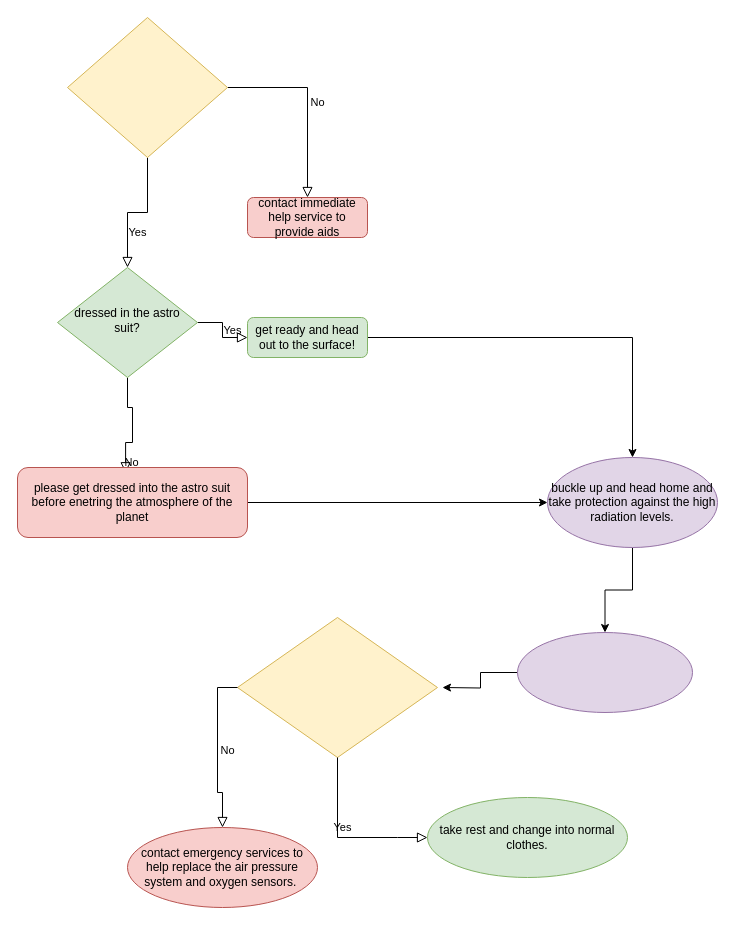
Some shapes in this 735 by 925 pixel diagram are drawn without their labels. Each missing label, with the centre of its shape:
"get settled in and eat some fresh food or cook some based on plant vegetation." goes at (x=604, y=672).
"is the air compressor and decompressor working properly?" goes at (x=337, y=687).
"safely landed on kepler 1649c?" goes at (x=147, y=87).
